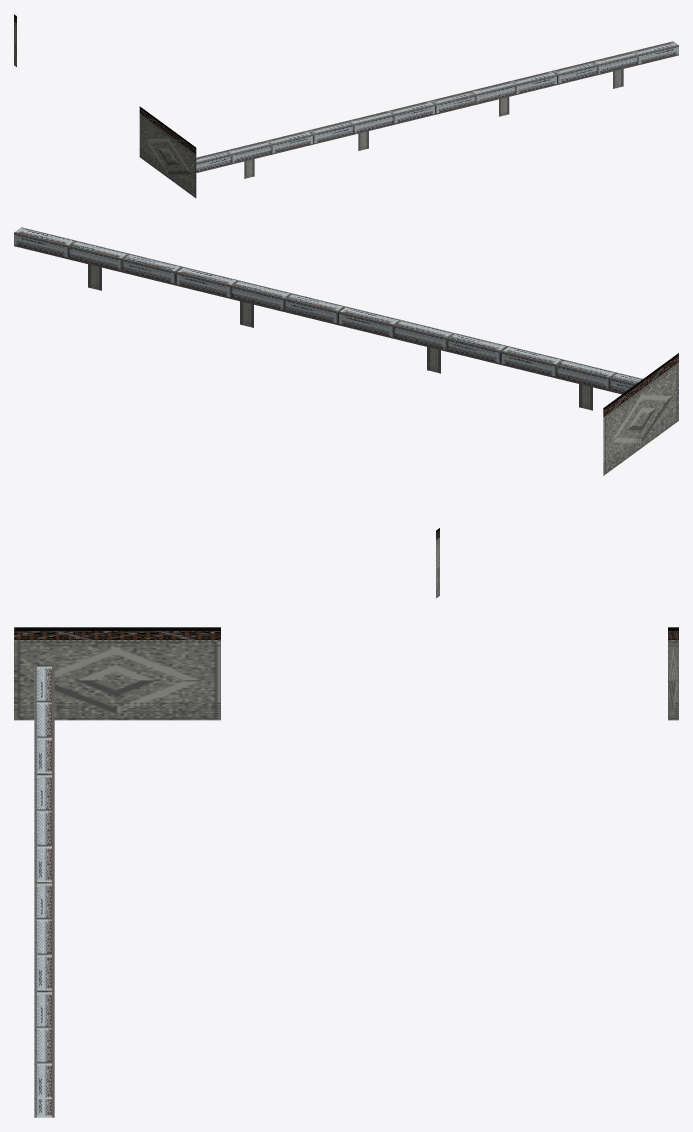
The model's file is yard.glb.
The picture shows the model from 3 angles, top to bottom: view 1: azimuth 30°, elevation 25°; view 2: azimuth 150°, elevation 25°; view 3: azimuth 270°, elevation 25°; orthographic projection. The views are drawn at different scales.
Parts seen in each view (by area): view 1: yard; view 2: yard; view 3: yard.
Boxes of the visible parts, x1,y1,x2,y2 form: yard: [14, 14, 678, 198]; yard: [14, 227, 678, 598]; yard: [14, 627, 678, 1117].
Size of the model in its own units: 27.8 by 2.78 by 18.
Materials: 1 (1 with a texture image).
